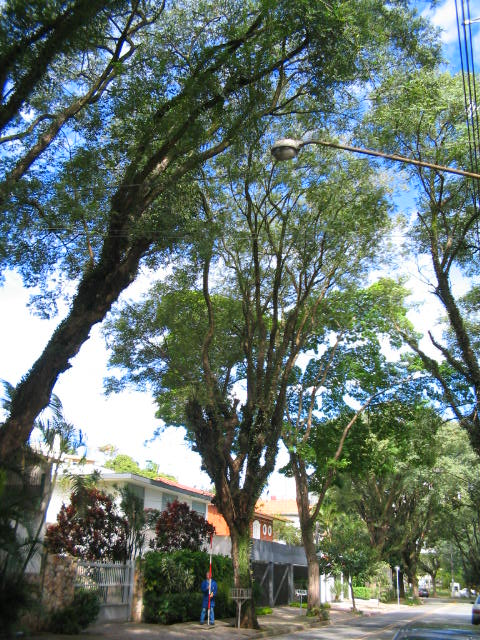stem: (219, 522, 271, 626)
stick: (201, 534, 219, 626)
tree: (108, 139, 430, 624)
